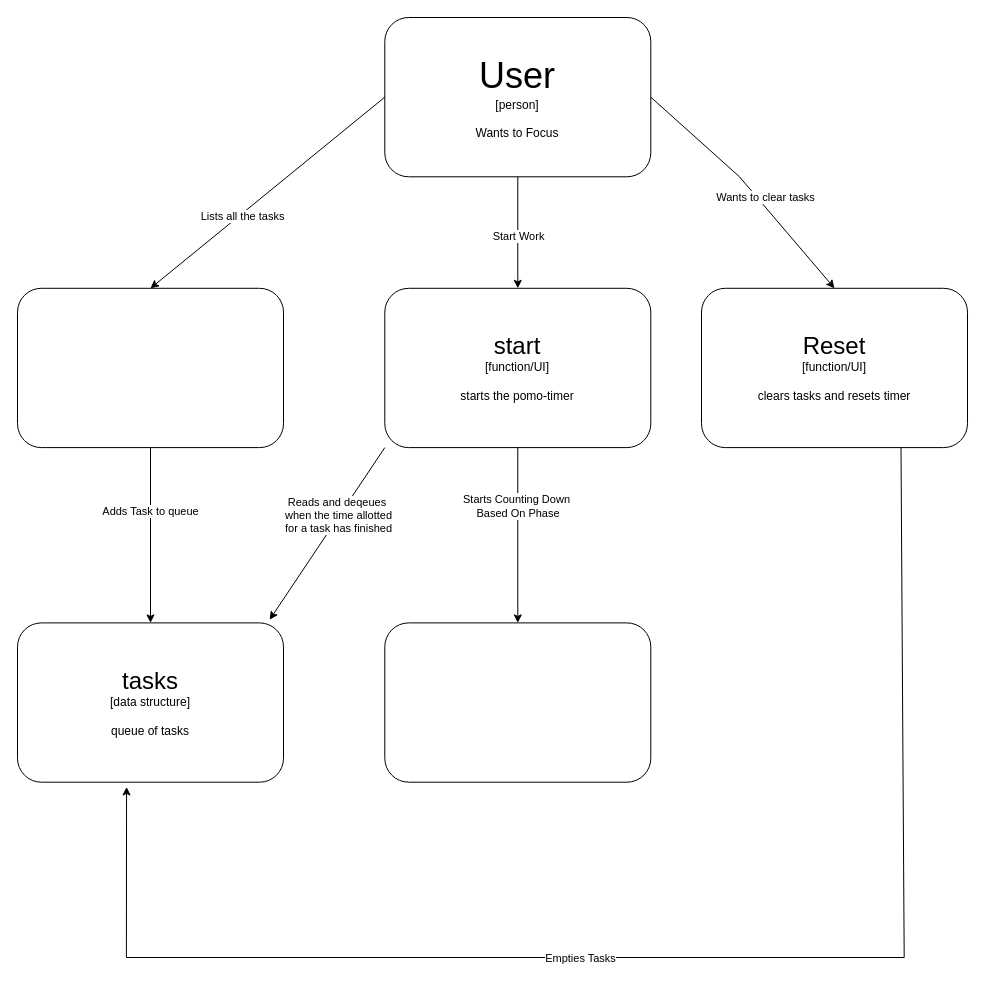
Some shapes in this 985 by 983 pixel diagram are drawn without their labels. Here are the shapes that lost their labels. From the top down, the centre of each, then its label:
point (150, 367): addTask [function/UI] adds each task the user wants to do
point (517, 702): Timer [UI] Counts down depending on phase
